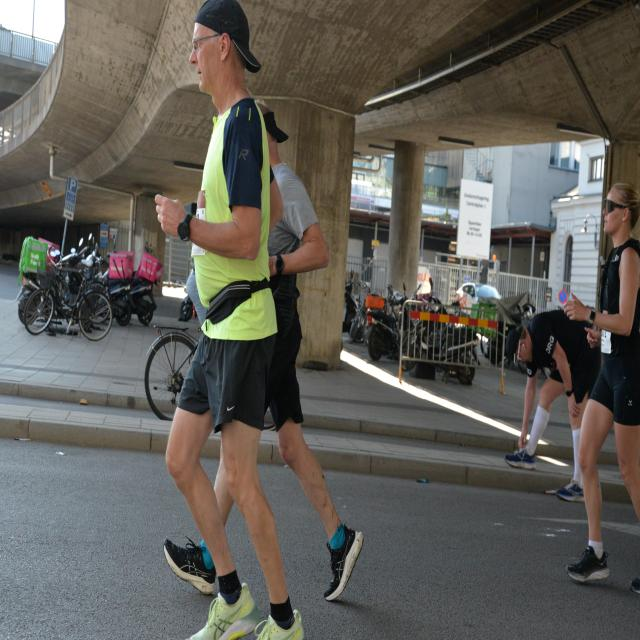runner-detect: (170, 2, 318, 640), (561, 172, 640, 604)
